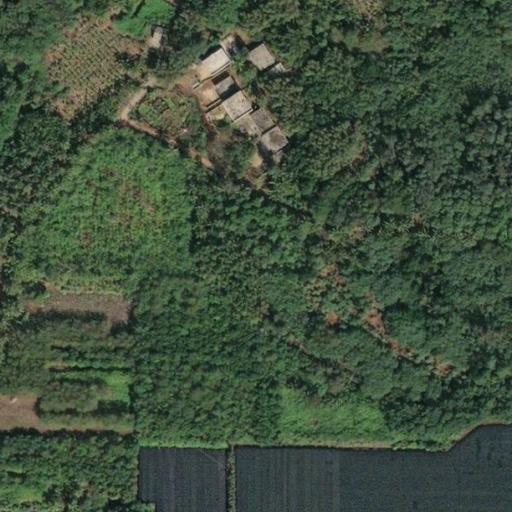building: (208, 87, 241, 120), (234, 45, 263, 76), (188, 46, 218, 74), (248, 125, 276, 153), (235, 108, 262, 136), (201, 77, 227, 100), (140, 29, 151, 46)
